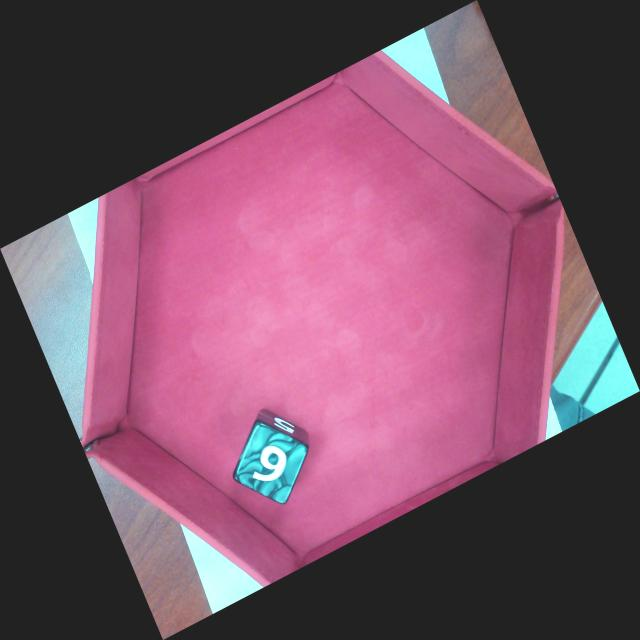dice: (229, 417, 312, 509)
